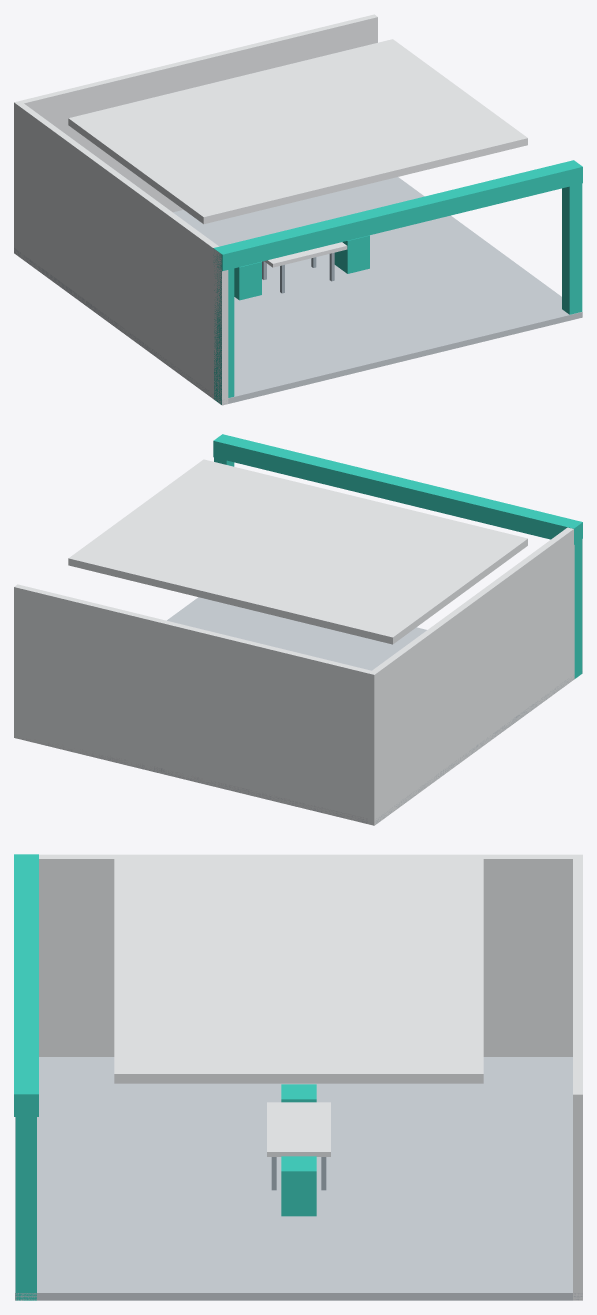
The picture shows the model from 3 angles, top to bottom: view 1: azimuth 30°, elevation 25°; view 2: azimuth 150°, elevation 25°; view 3: azimuth 270°, elevation 25°; orthographic projection. The views are drawn at different scales.
Visible parts, largest first — view 1: Exhibition Booth Concept; view 2: Exhibition Booth Concept; view 3: Exhibition Booth Concept.
Part boxes in pixels (left/top/right/bottom): Exhibition Booth Concept: left=14, top=14, right=582, bottom=405; Exhibition Booth Concept: left=14, top=434, right=582, bottom=825; Exhibition Booth Concept: left=14, top=854, right=582, bottom=1300.
Bounding box in the file's own units: 8 × 3.34 × 8.01.
